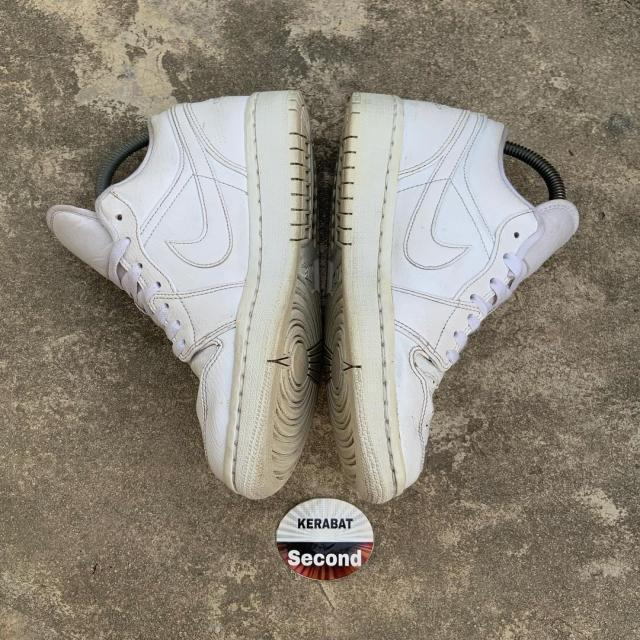nike original air force: (49, 93, 321, 500), (326, 96, 576, 503)
